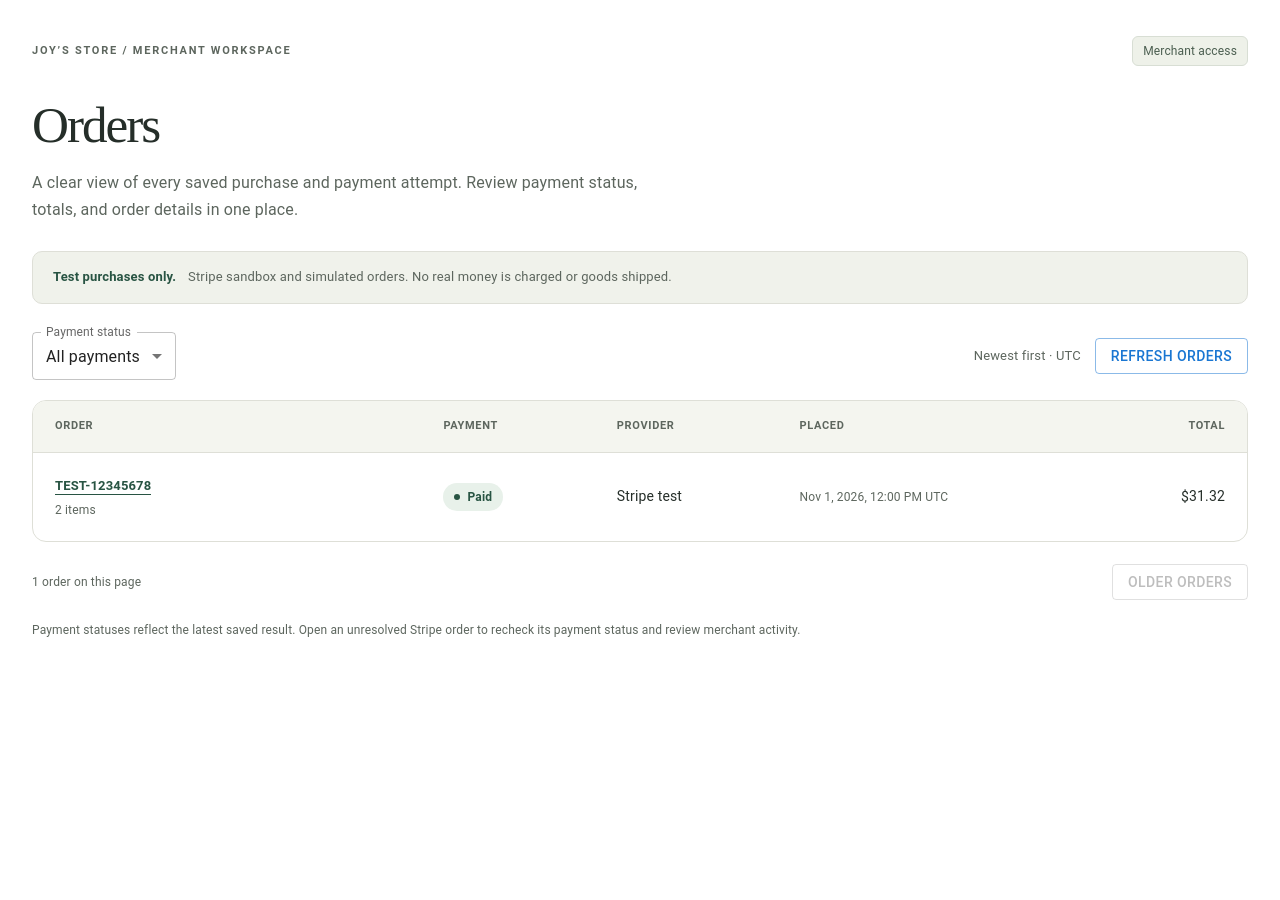
refreshing a loaded inbox hides old rows while obtaining a fresh authorization result
This screenshot has width=1280, height=900.
Expected: the table is shown, [33,401,1247,540]
What coordinates should you click on to do the following:
click the button "Refresh orders"
I would click on:
 (1171, 356)
Its box is [1095,338,1248,374].
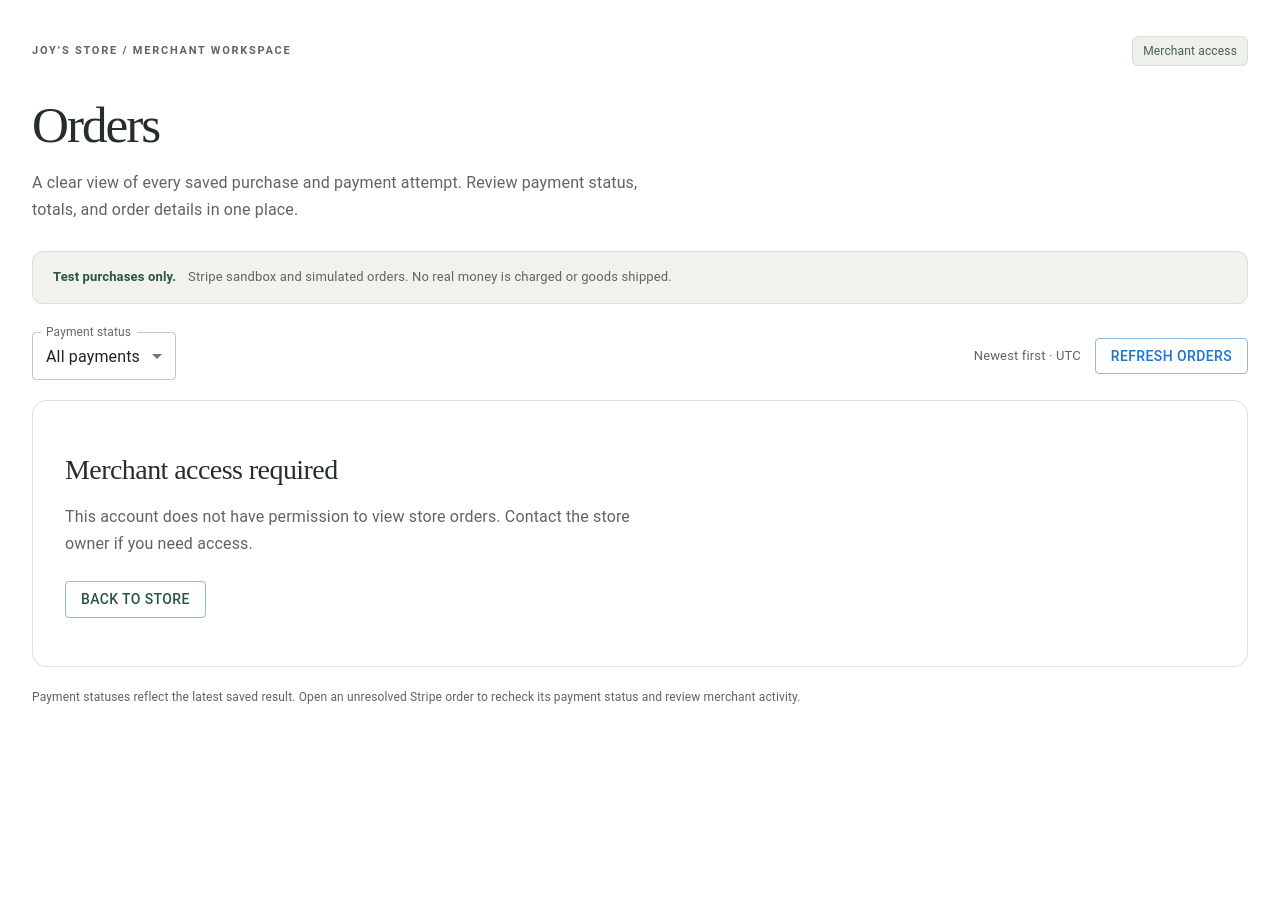
Now the link "TEST-12345678" is gone
Now the heading "Merchant access required" is shown, box [65,454,338,485]
